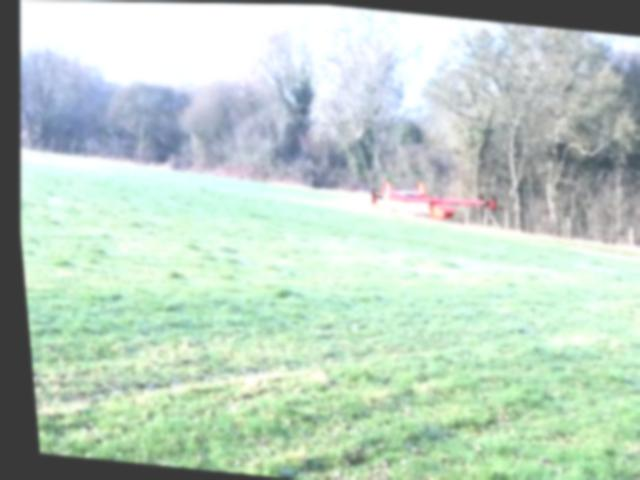uav: (369, 171, 486, 230)
